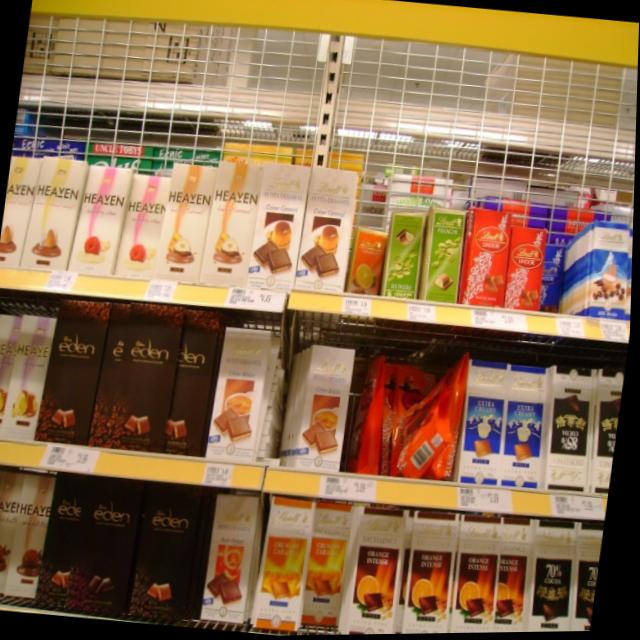q250: (68, 156, 130, 279), (112, 167, 171, 287)
